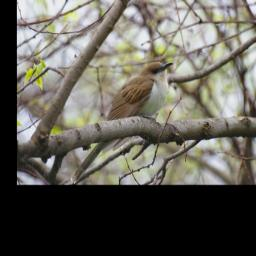Cuckoo: (69, 62, 174, 185)
